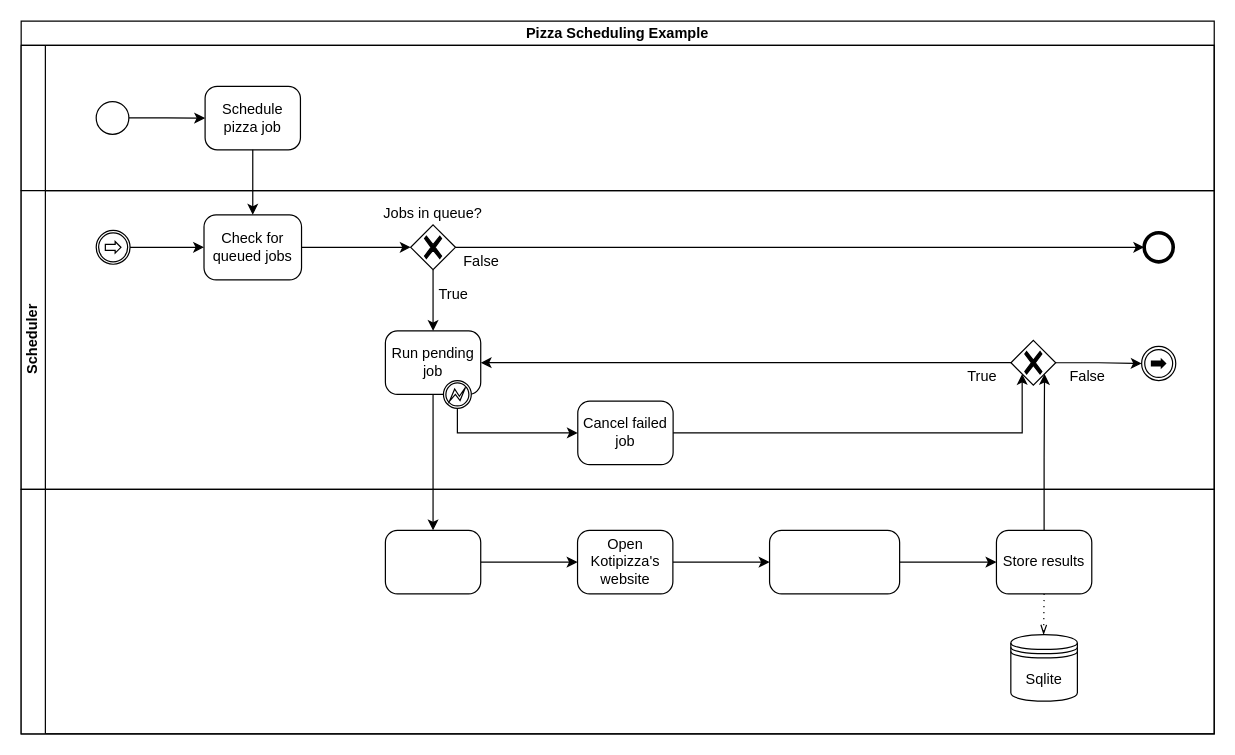
The diagram is 1235 pixels wide and 755 high, and some of its shapes have lost their labels. Each missing label, with the box of its shape:
Get Selenium session: (384, 529, 481, 594)
Jobs still pending?: (1010, 339, 1056, 385)
main.py: (20, 44, 1214, 191)
Pizza job: (20, 488, 1214, 734)
Scrape delivery prices for nearby restaurants: (768, 529, 900, 594)
